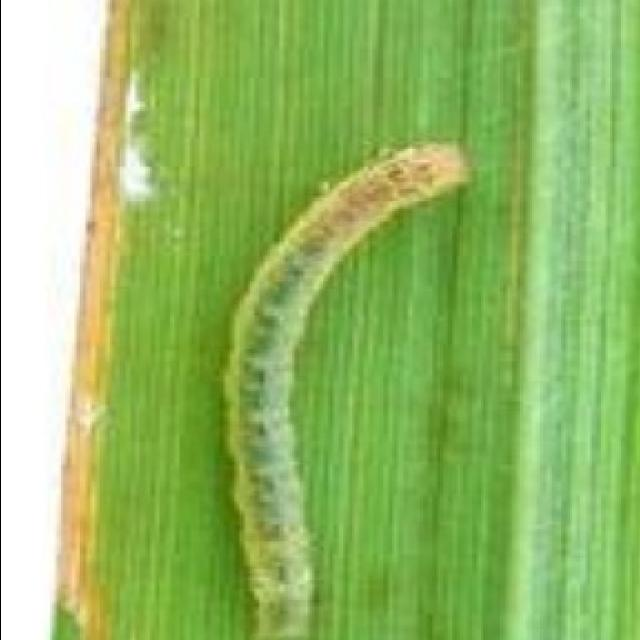rice leaf roller: (224, 142, 469, 638)
